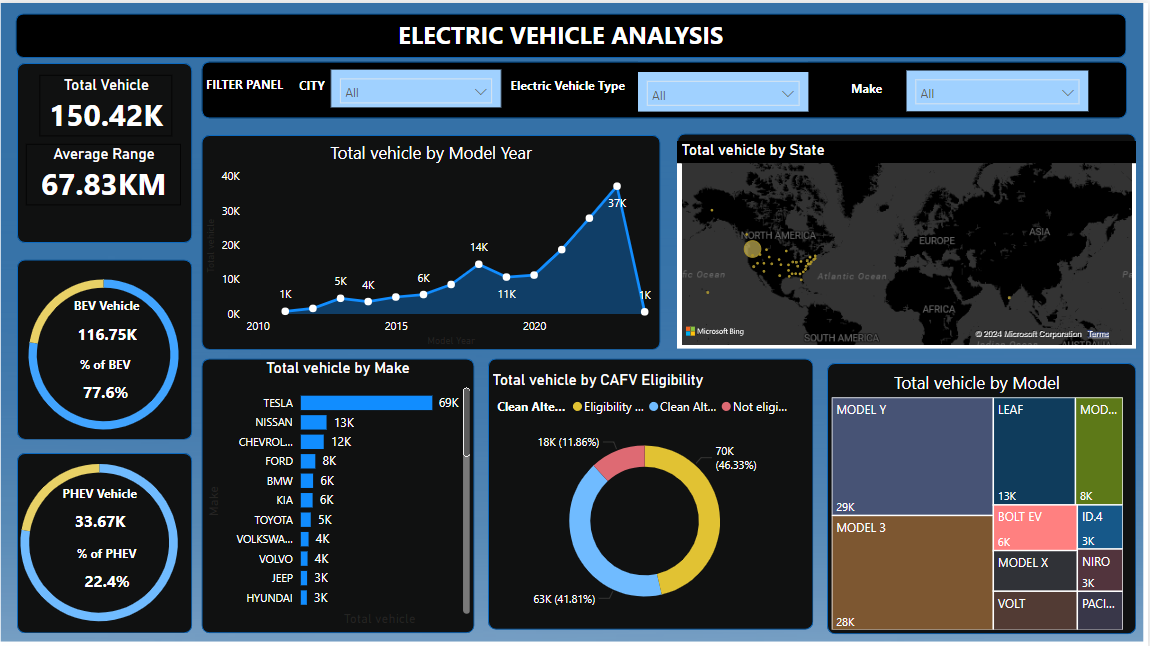

The page's visual inventory and layout, read from the dashboard file:
{"tool":"powerbi","page":{"name":"Page 1","canvas":[1280,720],"ordinal":0},"visuals":[{"type":"shape","box":[22.3,11.1,1234.3,49.3],"z":0},{"type":"textbox","box":[442.2,11.1,520.1,54.1],"z":1000},{"type":"shape","box":[22.7,66.1,194.6,200],"z":2000},{"type":"card","title":"Total Vehicle","fields":{"Values":["Electric_Vehicle_Population_Data.Total vehicle"]},"box":[49.1,79.4,147.4,68],"z":3000},{"type":"card","title":"Average Range","fields":{"Values":["Electric_Vehicle_Population_Data.Avg Range"]},"box":[34,156.9,172,68],"z":4000},{"type":"shape","box":[22.7,285.4,194.6,200.3],"z":5000},{"type":"shape","box":[22.7,500.8,194.6,200.3],"z":6000},{"type":"donutChart","fields":{"Category":["Electric_Vehicle_Population_Data.Electric Vehicle Type"],"Y":["Electric_Vehicle_Population_Data.Total vehicle"]},"box":[10.2,279.5,218.3,220.4],"z":7000},{"type":"card","title":"BEV Vehicle","fields":{"Values":["Electric_Vehicle_Population_Data.BEV Vehicle"]},"box":[61.2,326.5,122.4,67.3],"z":8000},{"type":"card","title":"% of BEV","fields":{"Values":["Electric_Vehicle_Population_Data.% of BEV"]},"box":[59.2,391.8,122.4,67.3],"z":9000},{"type":"donutChart","fields":{"Category":["Electric_Vehicle_Population_Data.Electric Vehicle Type"],"Y":["Electric_Vehicle_Population_Data.Total vehicle"]},"box":[0,485.6,228.5,228.5],"z":10000},{"type":"card","title":"PHEV Vehicle","fields":{"Values":["Electric_Vehicle_Population_Data.PHEV Vehicle"]},"box":[55.1,534.6,120.4,67.3],"z":11000},{"type":"card","title":"% of PHEV","fields":{"Values":["Electric_Vehicle_Population_Data.% of PHEV"]},"box":[61.2,601.9,122.4,67.3],"z":12000},{"type":"shape","box":[228.5,65.3,1028.4,63.3],"z":13000},{"type":"shape","box":[228.5,146.9,510,238.7],"z":14000},{"type":"areaChart","fields":{"Category":["Electric_Vehicle_Population_Data.Model Year"],"Y":["Electric_Vehicle_Population_Data.Total vehicle"]},"box":[228.5,153,510.1,232.6],"z":15000},{"type":"shape","box":[757,144.9,510,238.7],"z":16000},{"type":"map","fields":{"Size":["Electric_Vehicle_Population_Data.Total vehicle"],"Category":["Electric_Vehicle_Population_Data.State"]},"box":[757.2,152.6,510.1,231],"z":17000},{"type":"shape","box":[229,395.7,303.3,305.3],"z":18000},{"type":"shape","box":[546.3,395.7,361.5,301.3],"z":19000},{"type":"barChart","fields":{"Y":["Electric_Vehicle_Population_Data.Total vehicle"],"Category":["Electric_Vehicle_Population_Data.Make"]},"box":[229,395.7,303.3,301.3],"z":20000},{"type":"donutChart","title":"Total vehicle by CAFV Eligibility","fields":{"Category":["Electric_Vehicle_Population_Data.Clean Alternative Fuel Vehicle (CAFV) Eligibility"],"Y":["Electric_Vehicle_Population_Data.Total vehicle"]},"box":[546.3,407.7,347.5,285.2],"z":21000},{"type":"shape","box":[923.9,399.7,343.4,301.3],"z":22000},{"type":"treemap","fields":{"Group":["Electric_Vehicle_Population_Data.Model"],"Values":["Electric_Vehicle_Population_Data.Total vehicle"]},"box":[923.9,407.7,333.4,293.2],"z":23000},{"type":"slicer","fields":{"Values":["Electric_Vehicle_Population_Data.City"]},"box":[371,74,190,43],"z":24000},{"type":"textbox","box":[227.5,75,105,45],"z":25000},{"type":"textbox","box":[332,76,62,42],"z":26000},{"type":"textbox","box":[567,77,146,40],"z":27000},{"type":"textbox","box":[945,80,80,33.3],"z":27001},{"type":"slicer","fields":{"Values":["Electric_Vehicle_Population_Data.Electric Vehicle Type"]},"box":[713,77,189,44],"z":27002},{"type":"slicer","fields":{"Values":["Electric_Vehicle_Population_Data.Make"]},"box":[1011.7,75,201.7,45],"z":27003}]}

Visuals, with their boxes in screenshot pixels (x1, y1, x2, y2), scaled from the page's 1280x720 canvas onto the 1150x646 screenshot:
shape: crop(20, 10, 1129, 54)
textbox: crop(397, 10, 865, 58)
shape: crop(20, 59, 195, 239)
"Total Vehicle" card: crop(44, 71, 177, 132)
"Average Range" card: crop(31, 141, 185, 202)
shape: crop(20, 256, 195, 436)
shape: crop(20, 449, 195, 629)
donutChart - Electric_Vehicle_Population_Data.Electric Vehicle Type x Electric_Vehicle_Population_Data.Total vehicle: crop(9, 251, 205, 449)
"BEV Vehicle" card: crop(55, 293, 165, 353)
"% of BEV" card: crop(53, 352, 163, 412)
donutChart - Electric_Vehicle_Population_Data.Electric Vehicle Type x Electric_Vehicle_Population_Data.Total vehicle: crop(0, 436, 205, 641)
"PHEV Vehicle" card: crop(50, 480, 158, 540)
"% of PHEV" card: crop(55, 540, 165, 600)
shape: crop(205, 59, 1129, 115)
shape: crop(205, 132, 663, 346)
areaChart - Electric_Vehicle_Population_Data.Model Year x Electric_Vehicle_Population_Data.Total vehicle: crop(205, 137, 664, 346)
shape: crop(680, 130, 1138, 344)
map - Electric_Vehicle_Population_Data.Total vehicle x Electric_Vehicle_Population_Data.State: crop(680, 137, 1139, 344)
shape: crop(206, 355, 478, 629)
shape: crop(491, 355, 816, 625)
barChart - Electric_Vehicle_Population_Data.Total vehicle x Electric_Vehicle_Population_Data.Make: crop(206, 355, 478, 625)
"Total vehicle by CAFV Eligibility" donutChart: crop(491, 366, 803, 622)
shape: crop(830, 359, 1139, 629)
treemap - Electric_Vehicle_Population_Data.Model x Electric_Vehicle_Population_Data.Total vehicle: crop(830, 366, 1130, 629)
slicer - Electric_Vehicle_Population_Data.City: crop(333, 66, 504, 105)
textbox: crop(204, 67, 299, 108)
textbox: crop(298, 68, 354, 106)
textbox: crop(509, 69, 641, 105)
textbox: crop(849, 72, 921, 102)
slicer - Electric_Vehicle_Population_Data.Electric Vehicle Type: crop(641, 69, 810, 109)
slicer - Electric_Vehicle_Population_Data.Make: crop(909, 67, 1090, 108)
